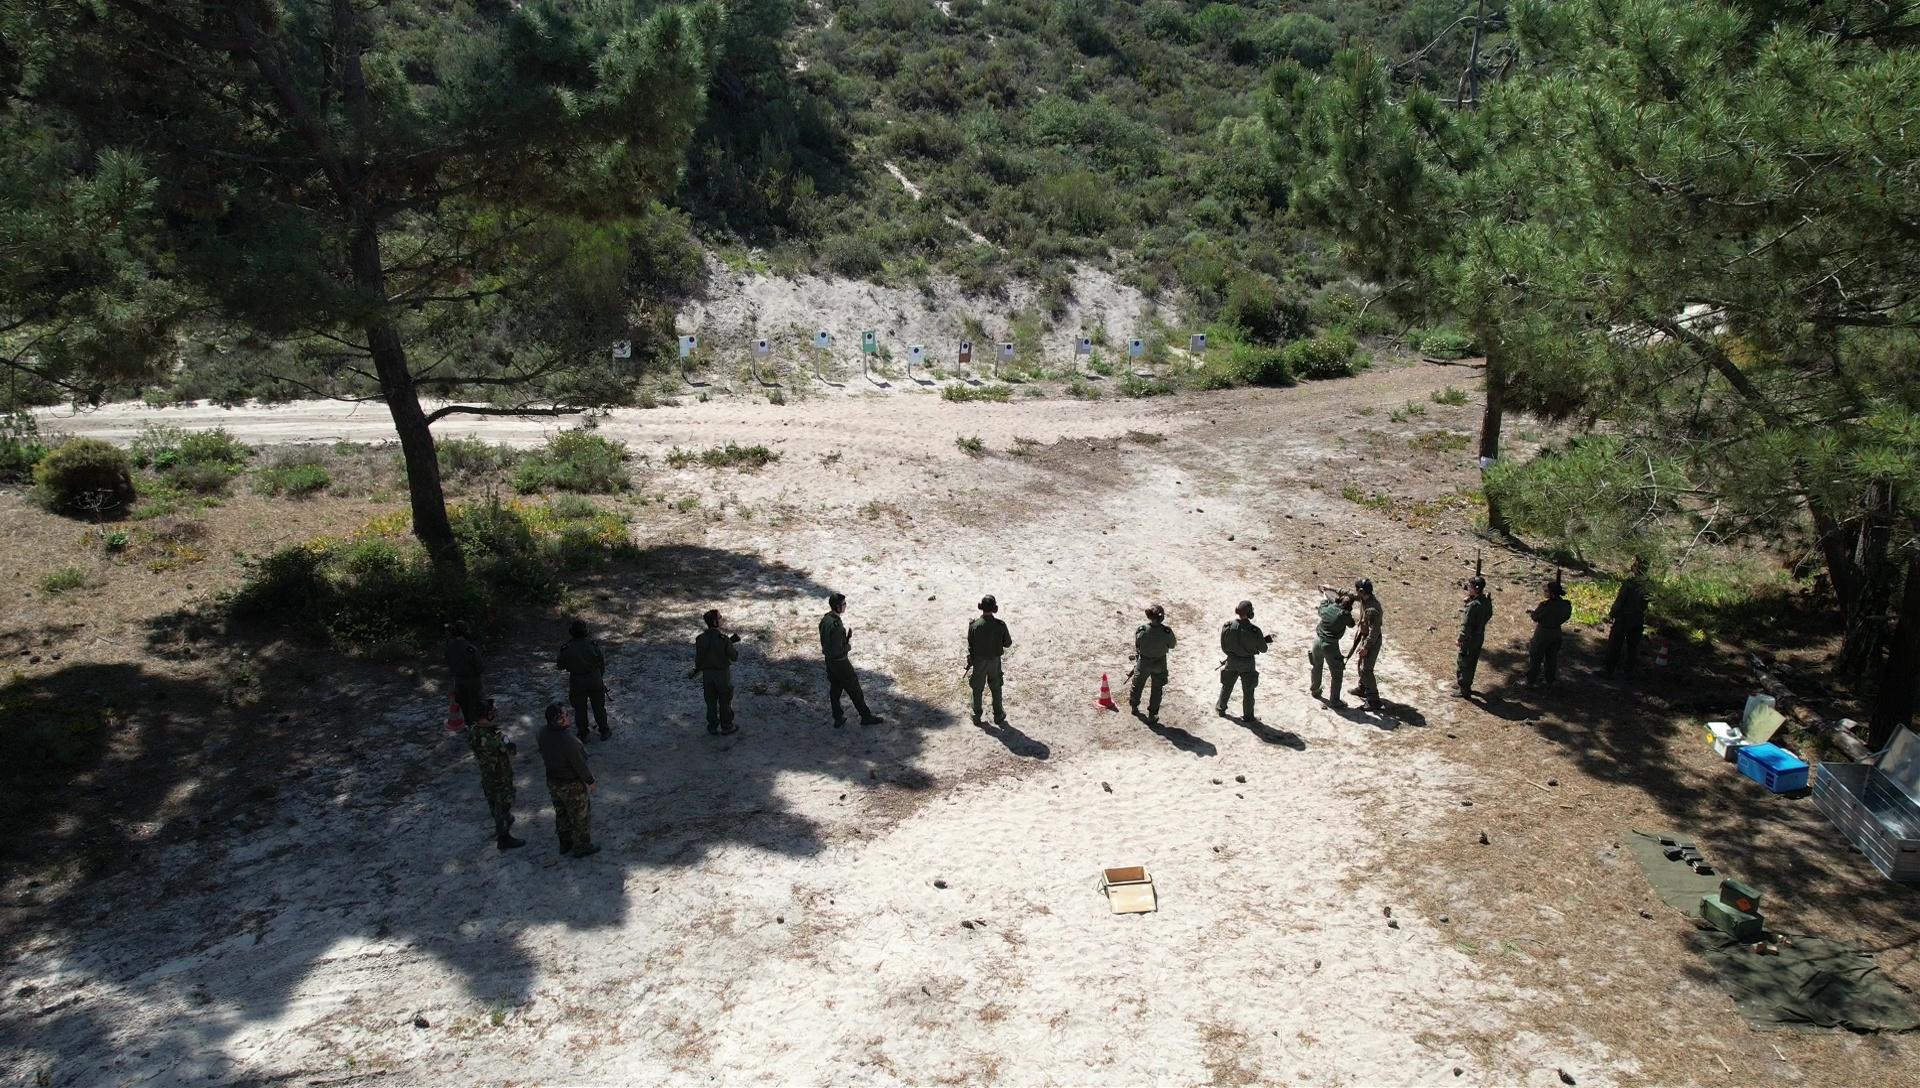Soldier: (526, 692, 616, 855), (1448, 557, 1511, 721), (953, 591, 1023, 732), (1298, 582, 1365, 721), (468, 713, 531, 856), (683, 611, 748, 742), (1211, 597, 1276, 727), (814, 603, 872, 739), (553, 628, 620, 744), (1342, 578, 1394, 711), (1528, 566, 1577, 700), (1126, 608, 1178, 733), (442, 622, 493, 737)
